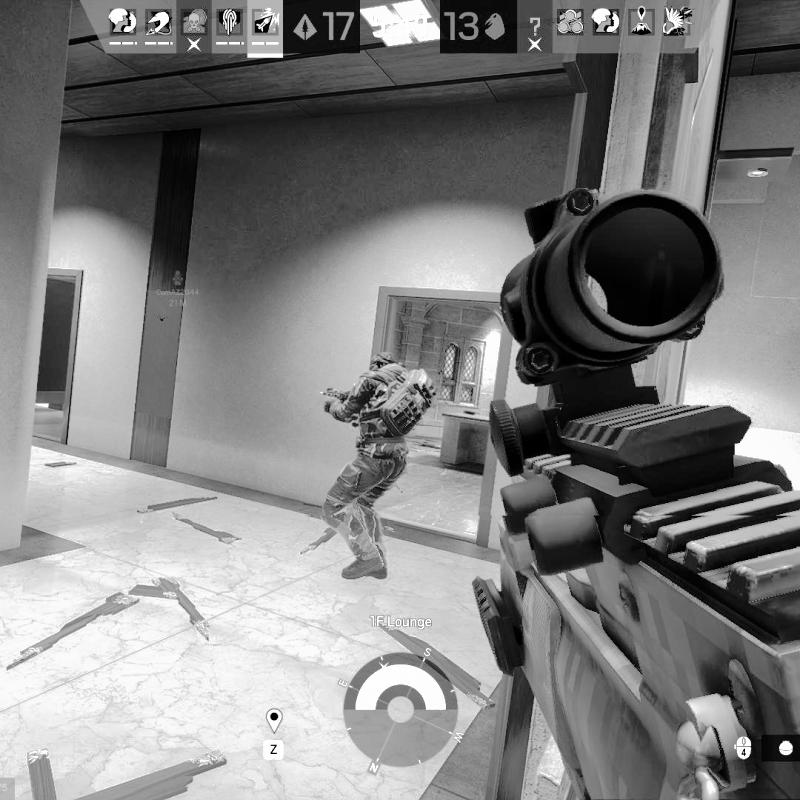Character: (320, 348, 442, 584)
Head: (367, 350, 399, 374)
